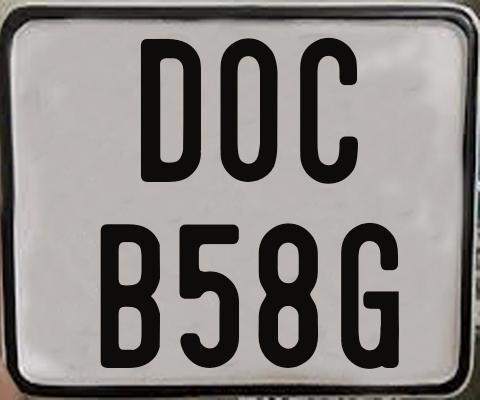0: (218, 35, 281, 185)
5: (179, 224, 243, 370)
8: (255, 223, 315, 368)
B: (97, 222, 157, 366)
C: (297, 37, 361, 183)
D: (138, 37, 203, 184)
G: (339, 222, 400, 370)
